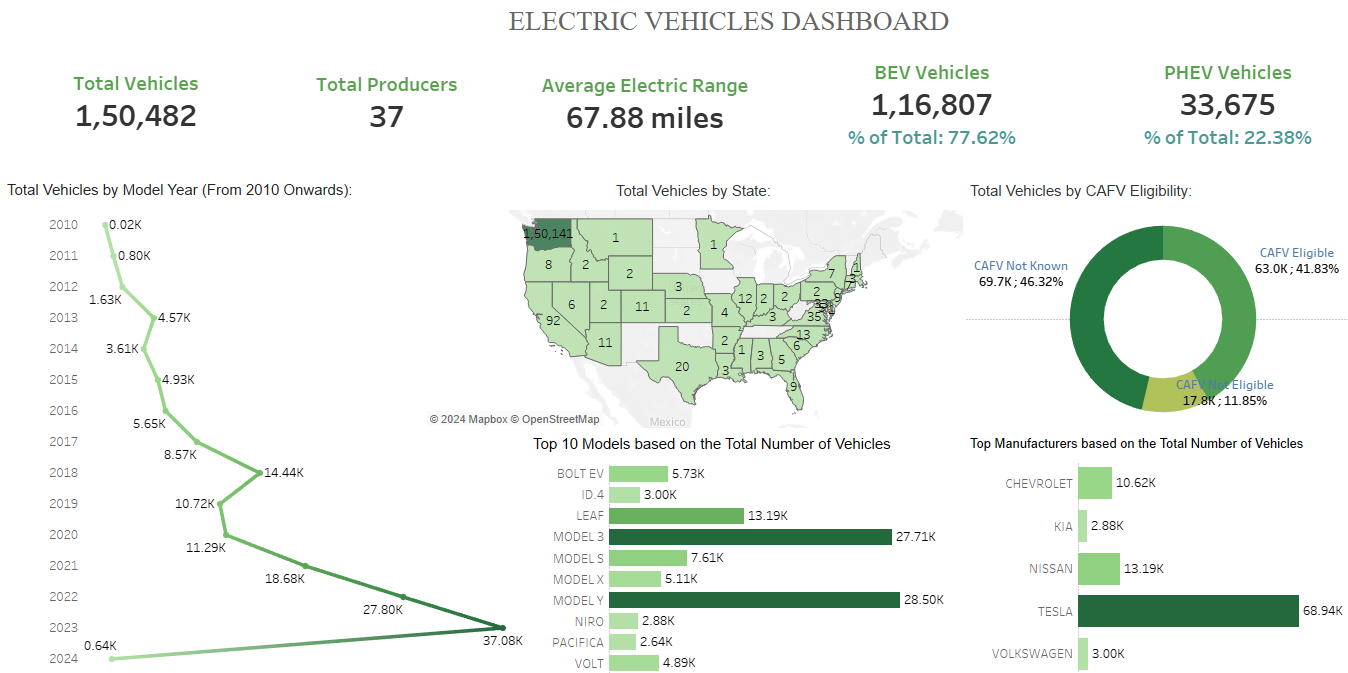

This screenshot's page, from the dashboard's own definition file:
{"tool":"tableau","page":{"name":"Dashboard 1","canvas":[1366,768],"ordinal":0},"visuals":[{"type":"text","box":[514,9,462,30]},{"type":"worksheet","title":"Total Vehicles","mark":"Automatic","box":[21,35,246,140]},{"type":"worksheet","title":"Total Vehicles (2)","mark":"Automatic","box":[272,36,245,139]},{"type":"worksheet","title":"Avg Electric Range.","mark":"Automatic","box":[521,37,263,139]},{"type":"worksheet","title":"# BEV VEHICLE","mark":"Automatic","box":[787,38,306,138]},{"type":"worksheet","title":"VEHICLE BY YEAR","mark":"Line","rows":["Model Year"],"cols":["Calculation_787848501915299840"],"box":[11,180,522,518]},{"type":"worksheet","title":"GEO","mark":"Automatic","box":[432,181,539,250]},{"type":"worksheet","title":"CAFV","mark":"Pie","rows":["Calculation_787848501934882826","Calculation_787848501934882826"],"box":[974,181,394,250]},{"type":"legend","title":"VEHICLE BY YEAR","param":"[federated.0mb7pbc15tawpa19d8tfe1c2ov76].[usr:Calculation_787848501915299840:qk]","box":[585.8,407.7,165,105.7]},{"type":"worksheet","title":"MODEL","mark":"Bar","cols":["Calculation_787848501915299840"],"box":[537,434,434,243]},{"type":"worksheet","title":"MAKERS","mark":"Bar","cols":["Calculation_787848501915299840"],"box":[974,435,392,243]}]}

Visuals, with their boxes on the page's 1366x768 design canvas (x1, y1, x2, y2). These are canvas units, not pixel positions in the 1348x673 screenshot, which may show the page scaled, cropped or inside an application window:
text: pyautogui.locateOnScreen(514, 9, 976, 39)
"Total Vehicles" worksheet: pyautogui.locateOnScreen(21, 35, 267, 175)
"Total Vehicles (2)" worksheet: pyautogui.locateOnScreen(272, 36, 517, 175)
"Avg Electric Range." worksheet: pyautogui.locateOnScreen(521, 37, 784, 176)
"# BEV VEHICLE" worksheet: pyautogui.locateOnScreen(787, 38, 1093, 176)
"VEHICLE BY YEAR" worksheet (Line marks): pyautogui.locateOnScreen(11, 180, 533, 698)
"GEO" worksheet: pyautogui.locateOnScreen(432, 181, 971, 431)
"CAFV" worksheet (Pie marks): pyautogui.locateOnScreen(974, 181, 1368, 431)
"VEHICLE BY YEAR" legend: pyautogui.locateOnScreen(586, 408, 751, 513)
"MODEL" worksheet (Bar marks): pyautogui.locateOnScreen(537, 434, 971, 677)
"MAKERS" worksheet (Bar marks): pyautogui.locateOnScreen(974, 435, 1366, 678)
